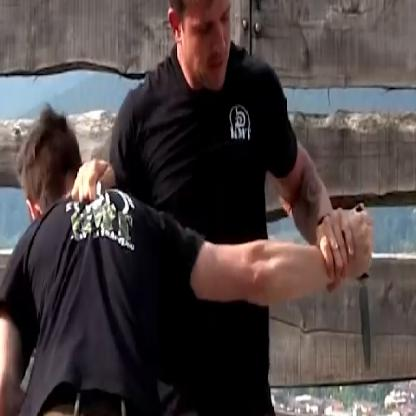knife: (346, 193, 379, 380)
